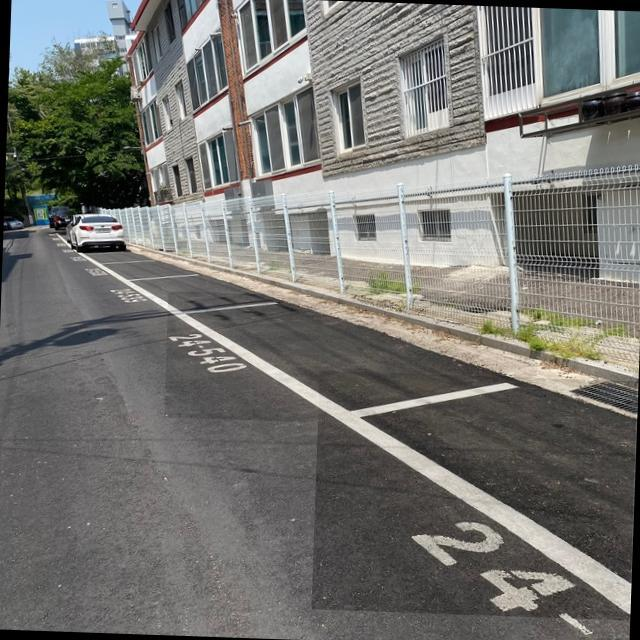empty: (318, 378, 636, 620), (168, 295, 536, 423)
